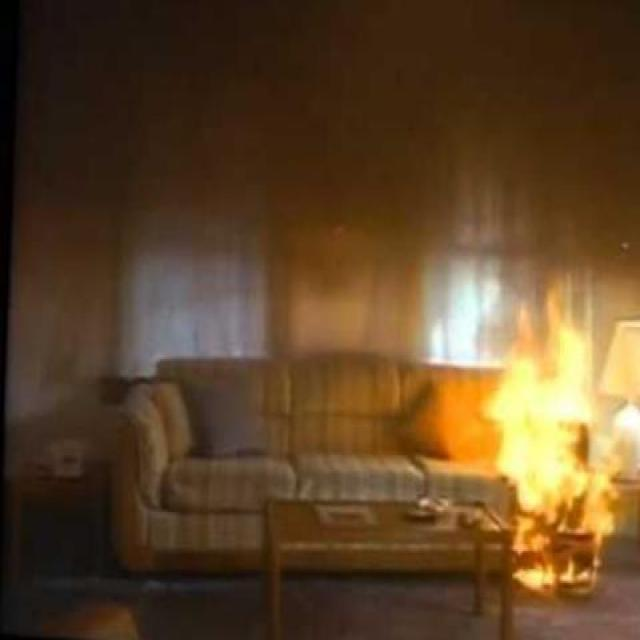fire: (474, 278, 628, 600)
other: (604, 334, 638, 450)
smoke: (3, 2, 636, 301)
